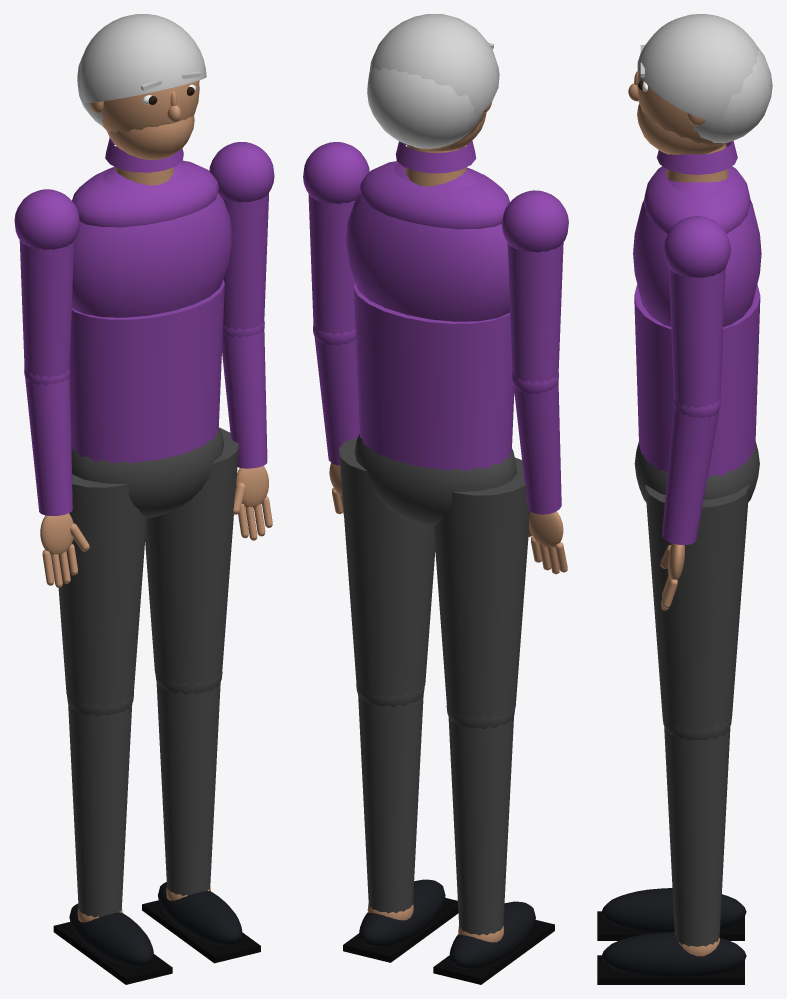
Rendered from villager-elder.glb.
The picture shows the model from 3 angles, left to right: view 1: azimuth 30°, elevation 25°; view 2: azimuth 150°, elevation 25°; view 3: azimuth 270°, elevation 25°; orthographic projection. The views are drawn at different scales.
Parts seen in each view (by area): view 1: leg (×2), arm (×2), object 1, object 2, object 22, object 3, villager-elder, object 7, object 8, object 6, object 5; view 2: leg (×2), arm (×2), object 1, object 2, object 22, object 23, object 3, villager-elder, object 6, object 5; view 3: leg (×2), arm, object 1, object 22, object 2, object 3, object 23, villager-elder, object 7, object 6, object 8, object 5.
Part boxes in pixels (box(x1,y1,x2,y2)): leg (×2): box(53, 427, 260, 984); arm (×2): box(14, 142, 274, 587); object 1: box(69, 280, 224, 463); object 2: box(72, 162, 232, 317); object 22: box(79, 14, 206, 102); object 3: box(72, 160, 219, 227); villager-elder: box(71, 427, 223, 517); object 7: box(102, 80, 199, 132); object 8: box(107, 114, 194, 159); object 6: box(105, 137, 183, 172); object 5: box(114, 146, 174, 185); leg (×2): box(339, 438, 554, 984); arm (×2): box(303, 142, 568, 574); object 1: box(353, 283, 514, 470); object 2: box(346, 163, 509, 321); object 22: box(369, 14, 499, 116); object 23: box(367, 67, 482, 148); object 3: box(359, 161, 509, 229); villager-elder: box(354, 434, 517, 526); object 6: box(395, 141, 476, 173); object 5: box(405, 144, 466, 186); leg (×2): box(597, 484, 749, 984); arm: box(660, 216, 730, 610); object 1: box(634, 285, 760, 477); object 22: box(637, 14, 758, 123); object 2: box(633, 179, 761, 326); object 3: box(643, 166, 750, 233); object 23: box(692, 46, 772, 143); villager-elder: box(634, 442, 759, 501); object 7: box(637, 72, 727, 146); object 6: box(656, 140, 737, 174); object 8: box(637, 103, 724, 154); object 5: box(666, 144, 728, 182).
Bounding box in the file's own units: 0.5413 × 1.88 × 0.3198.
